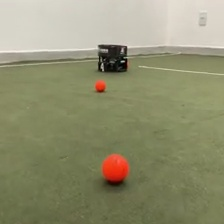ball: (100, 151, 129, 184), (94, 79, 106, 91)
robot: (97, 42, 128, 72)
